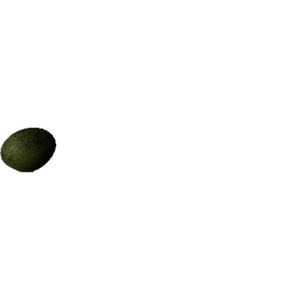abacate: (1, 125, 57, 172)
